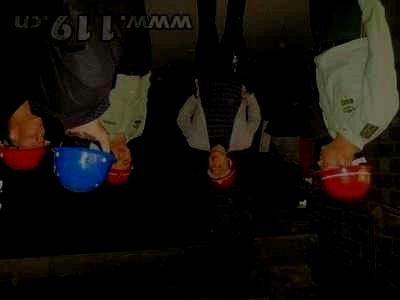helmet: (52, 124, 118, 193), (316, 143, 374, 201), (1, 117, 51, 171), (206, 151, 235, 189), (107, 143, 133, 185)
